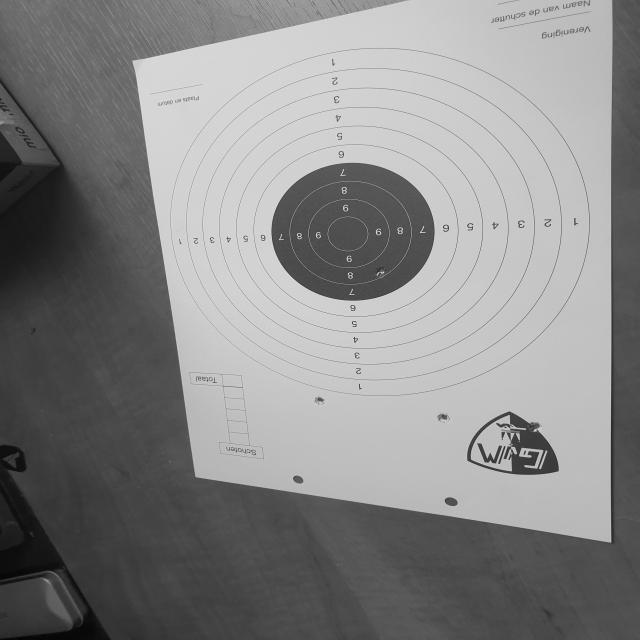0: (526, 422, 544, 432), (437, 413, 451, 423), (314, 396, 326, 405)
8: (373, 266, 386, 278)
Target: (168, 47, 589, 396)
black_contour: (271, 162, 435, 302)
